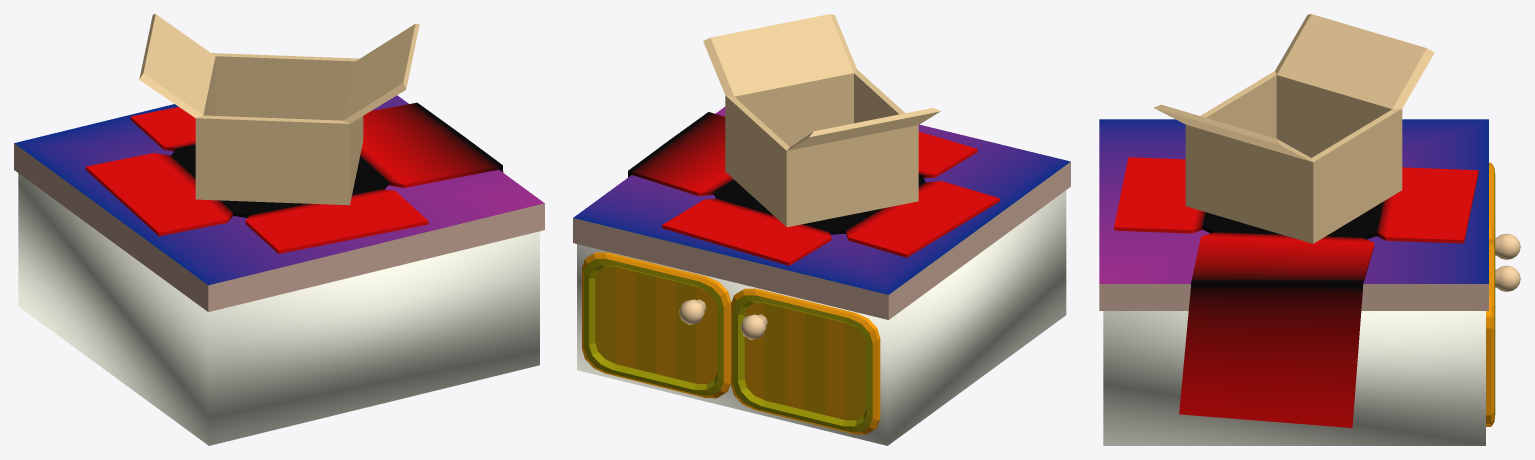
Rendered from CardboardBoxProvider.fbx.
3 renders of one model, left to right at view 1: azimuth 30°, elevation 25°; view 2: azimuth 150°, elevation 25°; view 3: azimuth 270°, elevation 25°, orthographic. The views are drawn at different scales.
Visible parts, largest first — view 1: Body, CardboardBox.001, FlatCardboardBox, Top, Top Rim; view 2: Doors, CardboardBox.001, Body, FlatCardboardBox, Top, Top Rim, Handles; view 3: FlatCardboardBox, CardboardBox.001, Body, Top, Top Rim, Doors, Handles.
Boxes of the visible parts, bbox=[...] form: Body: bbox=[18, 173, 539, 445]; CardboardBox.001: bbox=[139, 14, 419, 205]; FlatCardboardBox: bbox=[85, 102, 503, 253]; Top: bbox=[14, 95, 544, 285]; Top Rim: bbox=[14, 143, 544, 311]; Doors: bbox=[582, 252, 880, 434]; CardboardBox.001: bbox=[703, 14, 940, 227]; Body: bbox=[577, 190, 1066, 445]; FlatCardboardBox: bbox=[628, 112, 999, 265]; Top: bbox=[573, 107, 1070, 294]; Top Rim: bbox=[573, 162, 1070, 319]; Handles: bbox=[679, 299, 767, 339]; FlatCardboardBox: bbox=[1114, 157, 1478, 427]; CardboardBox.001: bbox=[1153, 14, 1434, 243]; Body: bbox=[1103, 311, 1485, 445]; Top: bbox=[1099, 119, 1488, 283]; Top Rim: bbox=[1099, 284, 1488, 310]; Doors: bbox=[1486, 162, 1495, 426]; Handles: bbox=[1495, 233, 1520, 291].
Bounding box in the file's own units: 101 × 81.67 × 108.
